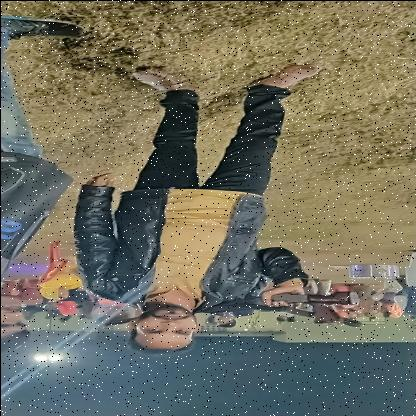rifle: (96, 290, 362, 328)
